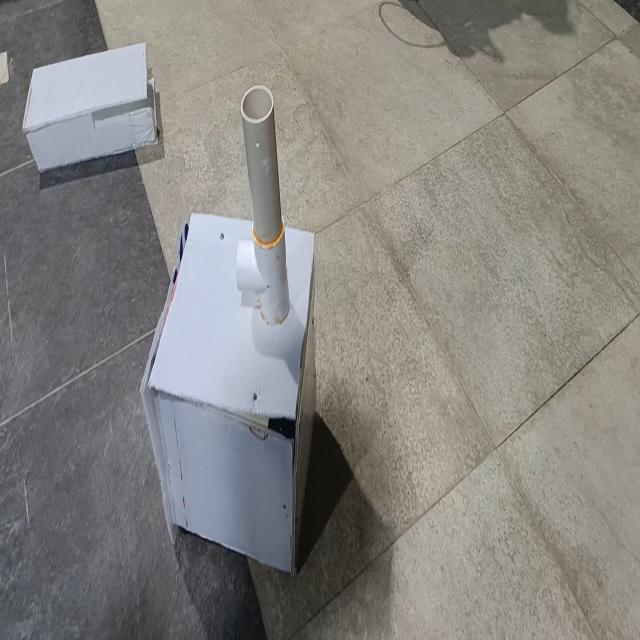Cube: (140, 210, 318, 575)
Cuboid: (22, 39, 158, 174)
